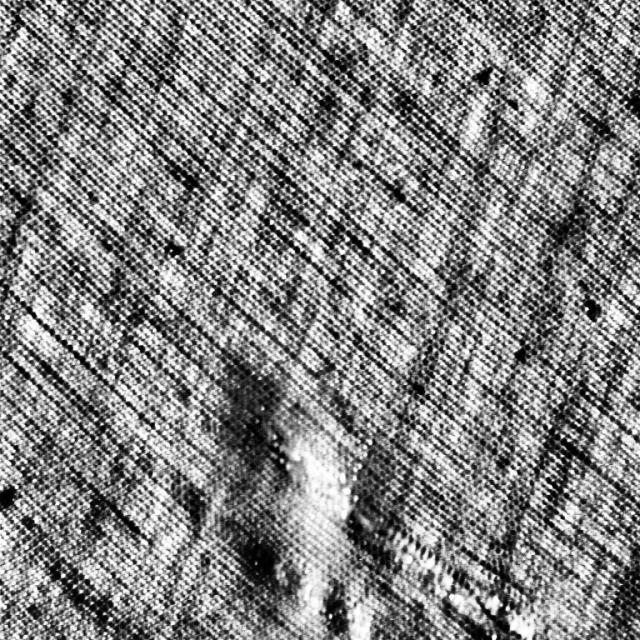gray stitch: (246, 391, 530, 639)
